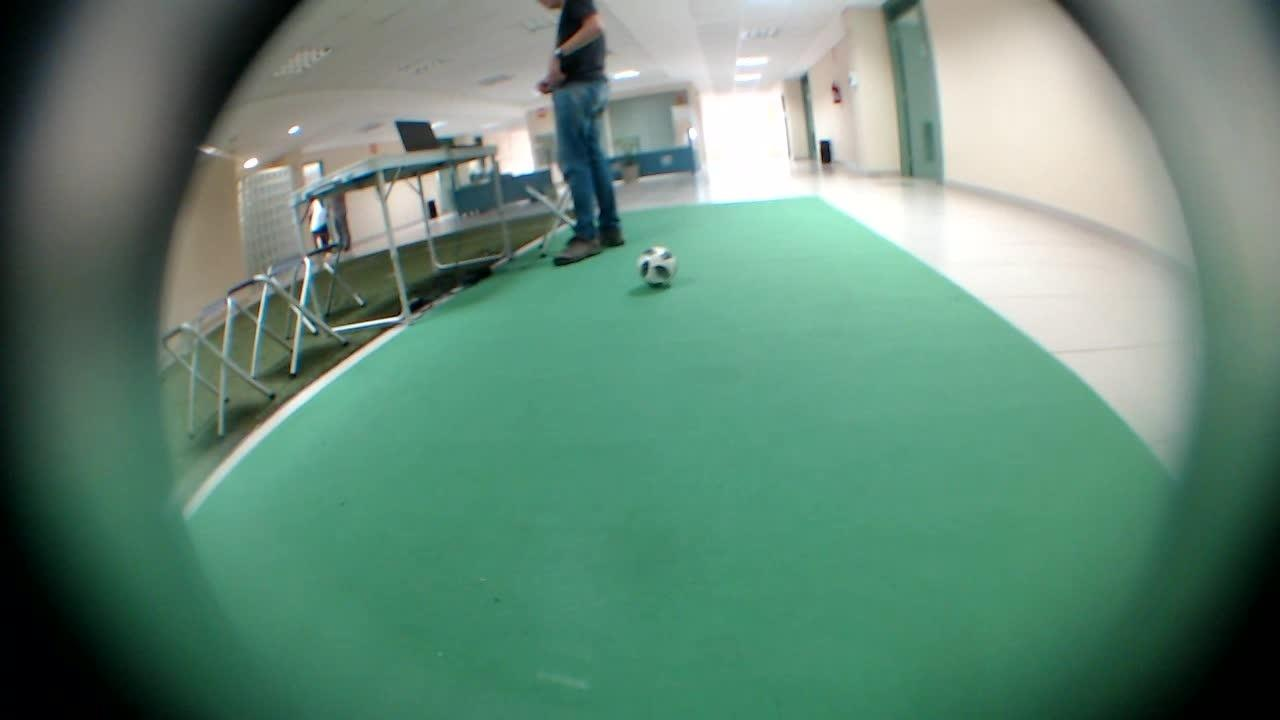ball: (628, 238, 684, 289)
